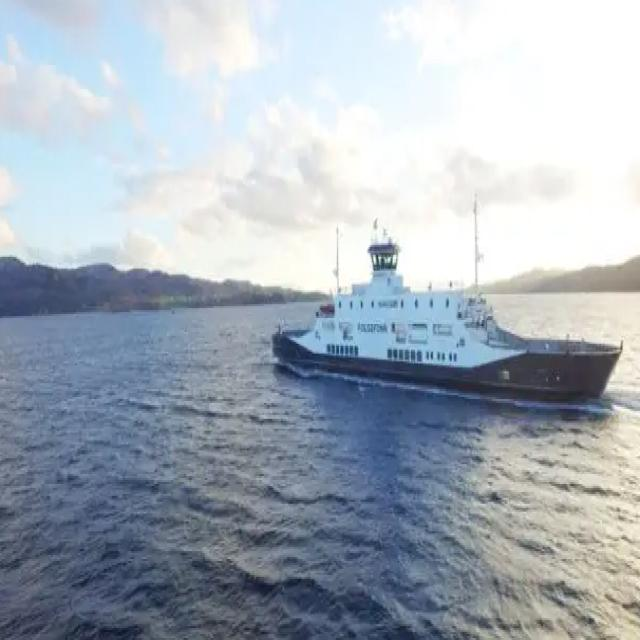houseboat: (273, 212, 631, 429)
